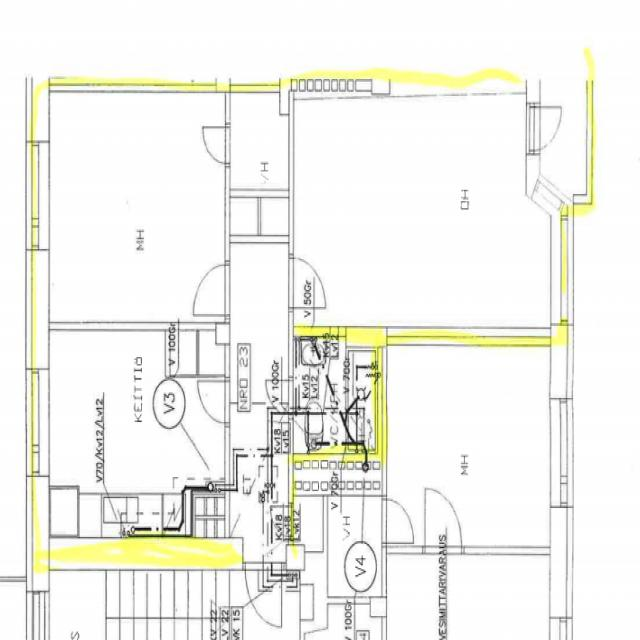door: (246, 562, 281, 626), (192, 265, 229, 315), (526, 107, 568, 150), (289, 258, 325, 308), (197, 380, 229, 423), (201, 126, 229, 162), (266, 380, 293, 415), (270, 506, 293, 536)
